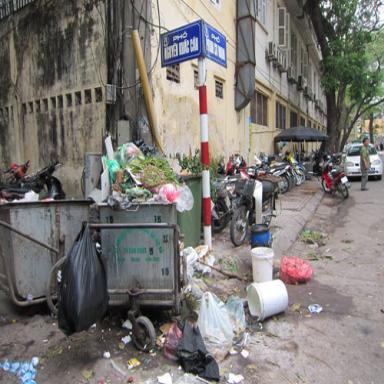plasticbag: (159, 282, 250, 383), (94, 133, 195, 211), (49, 218, 105, 332), (198, 284, 231, 360), (272, 249, 316, 287)
